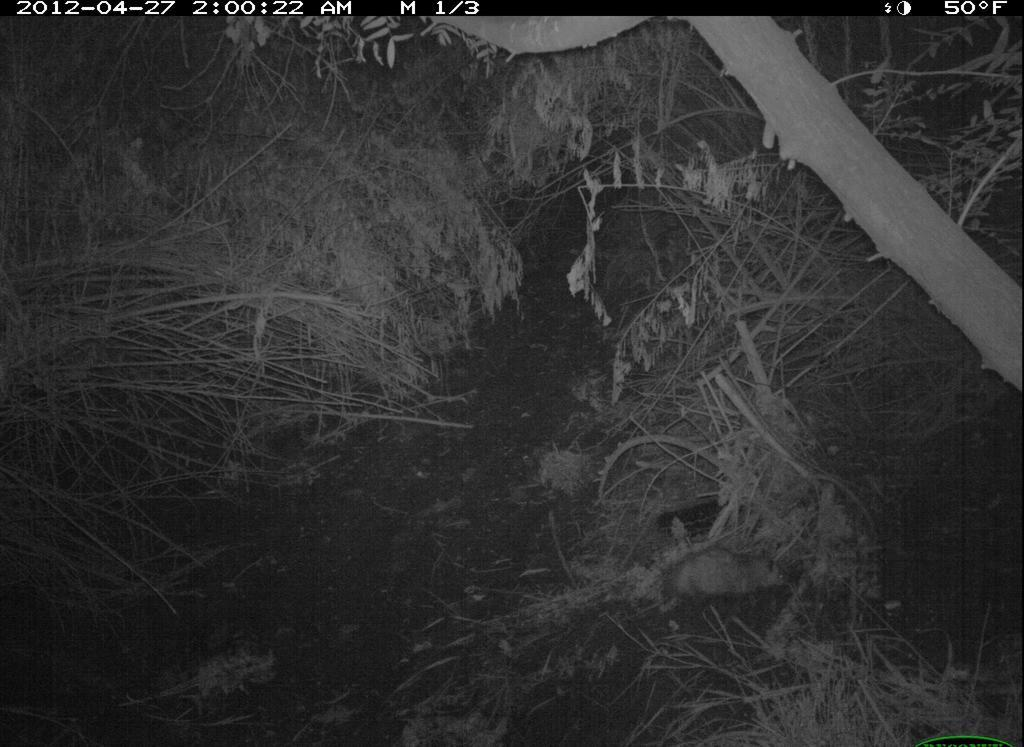opossum: (630, 541, 795, 628)
